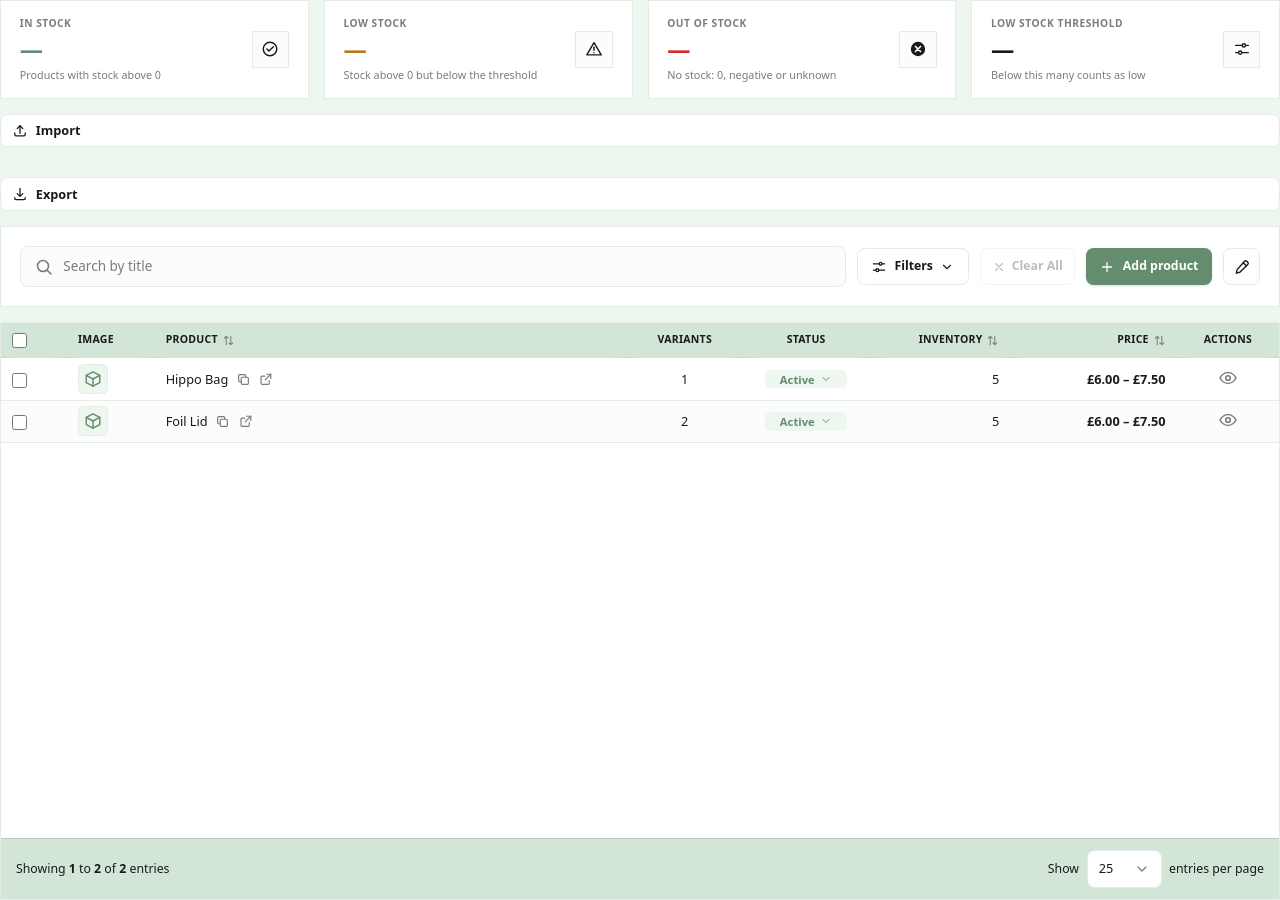
Scenario: editing products in bulk › opens every product on the page from "Edit this page", variants listed underneath
Expected: the checkbox named "Select Hippo Bag" is shown, [12,373,27,388]
Click the button named "Edit in bulk" at (1242, 267), box [1223,248,1260,285]
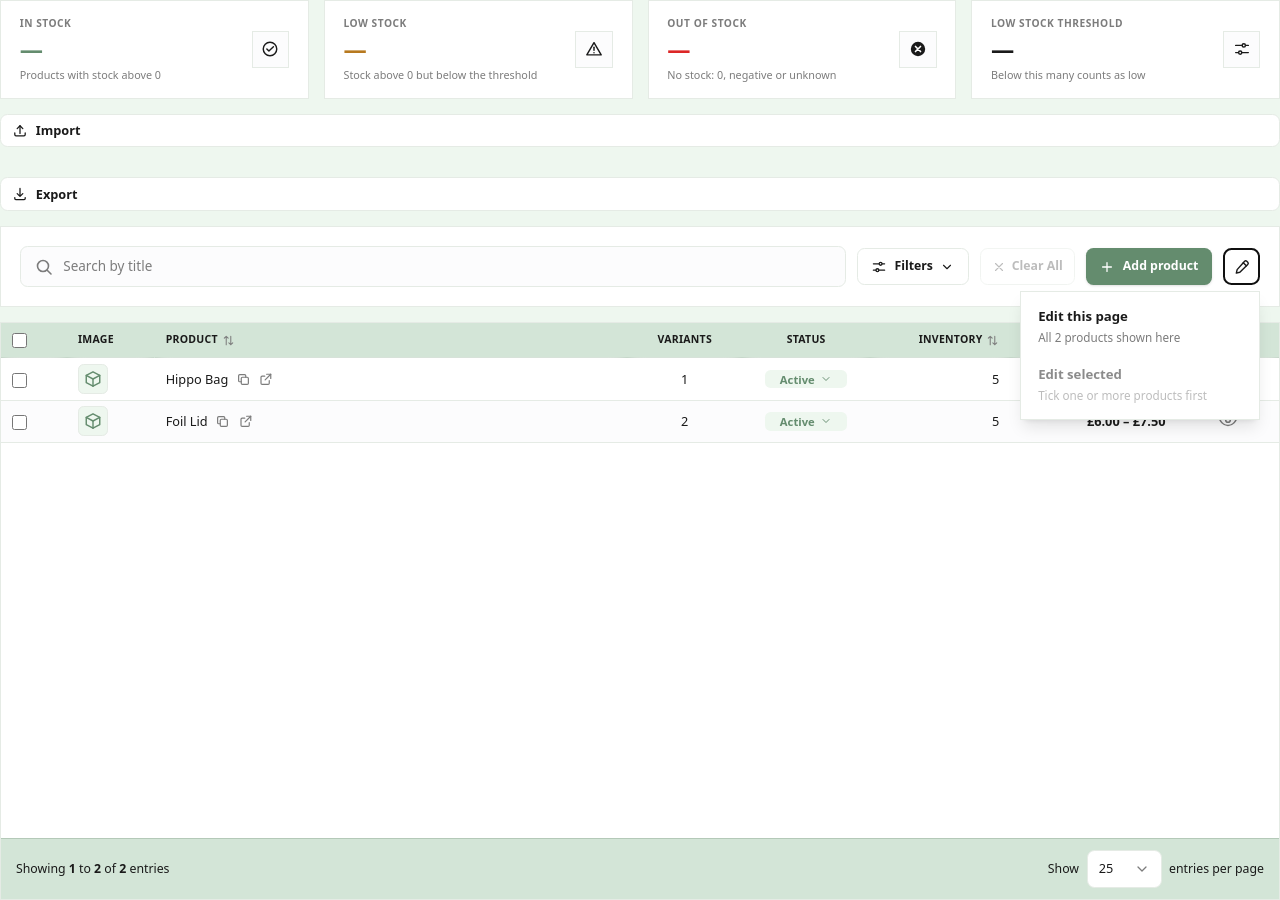
Click the menu item "Edit this page All 2 products shown here" at (1140, 327), box [1027,298,1254,356]
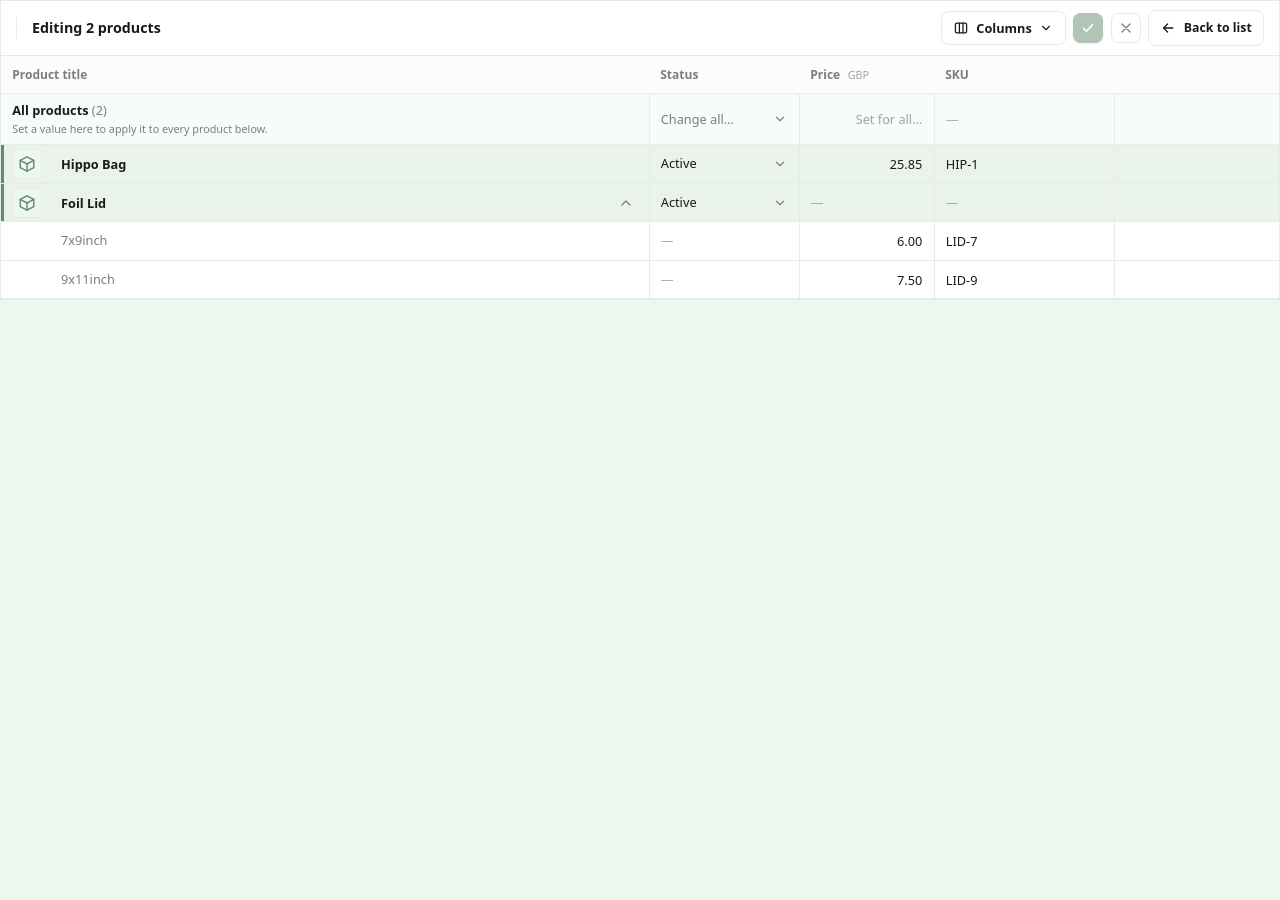
Result: the heading "Editing 2 products" is shown at [32,17,161,39]
Result: the field named "Title for Hippo Bag" is shown at [50,145,649,183]
Result: the field named "Title for Foil Lid" is shown at [50,184,604,221]
